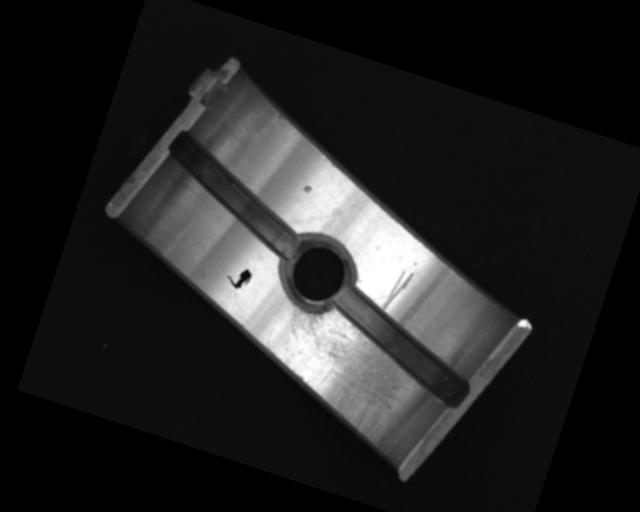blot: (224, 262, 254, 292)
bruise: (300, 183, 313, 195)
gap: (147, 129, 324, 264), (317, 284, 487, 410)
hole: (269, 228, 363, 323)
nick: (380, 264, 416, 318)
scratch: (251, 300, 419, 450)
